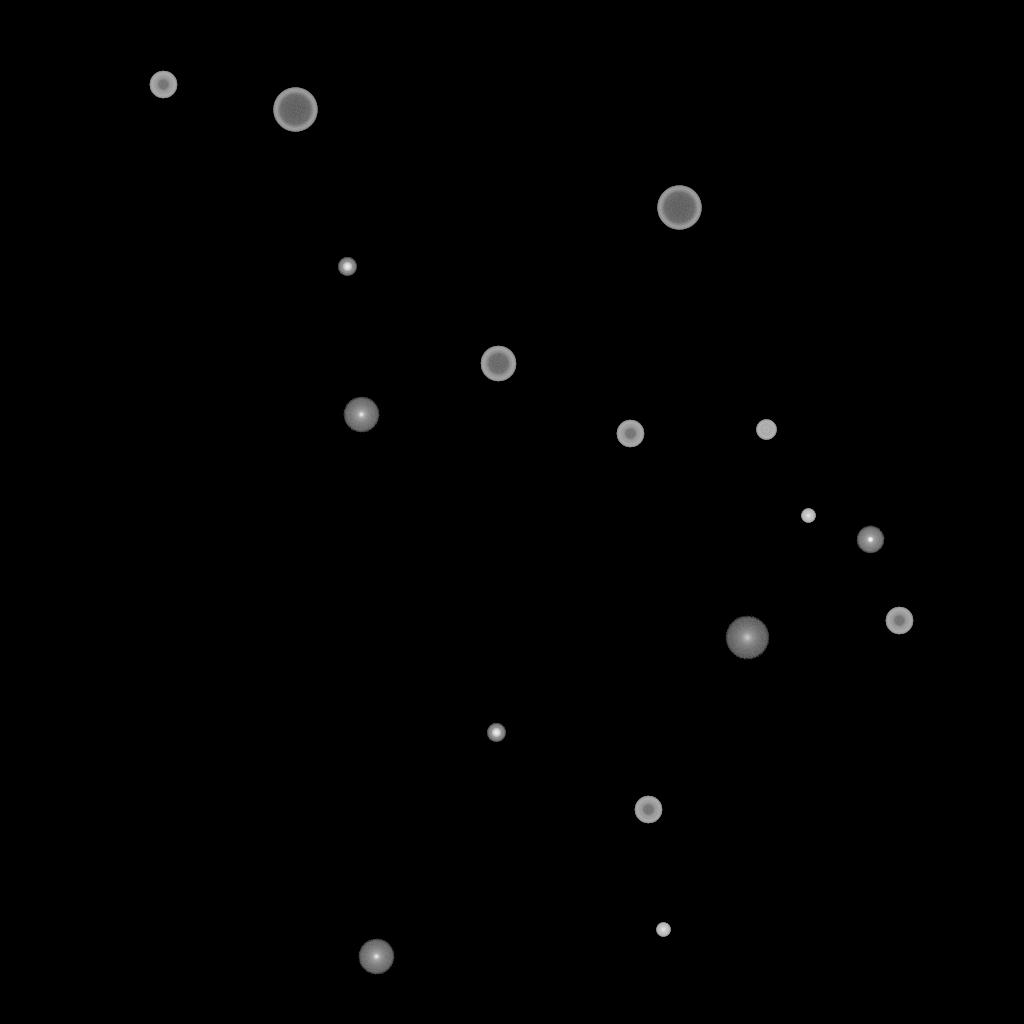depth:-10: (856, 526, 884, 554)
depth:-20: (338, 258, 356, 276), (487, 724, 505, 742)
depth:-30: (801, 509, 815, 523), (656, 923, 670, 937)
depth:-40: (756, 420, 776, 440)
depth:-50: (616, 420, 644, 448), (885, 607, 913, 635), (634, 796, 662, 824), (149, 71, 177, 99)
depth:-60: (480, 346, 516, 382)
depth:-70: (273, 88, 317, 132), (657, 186, 701, 230)
depth:0: (343, 397, 379, 433), (358, 939, 394, 975)
depth:10: (725, 616, 769, 660)
